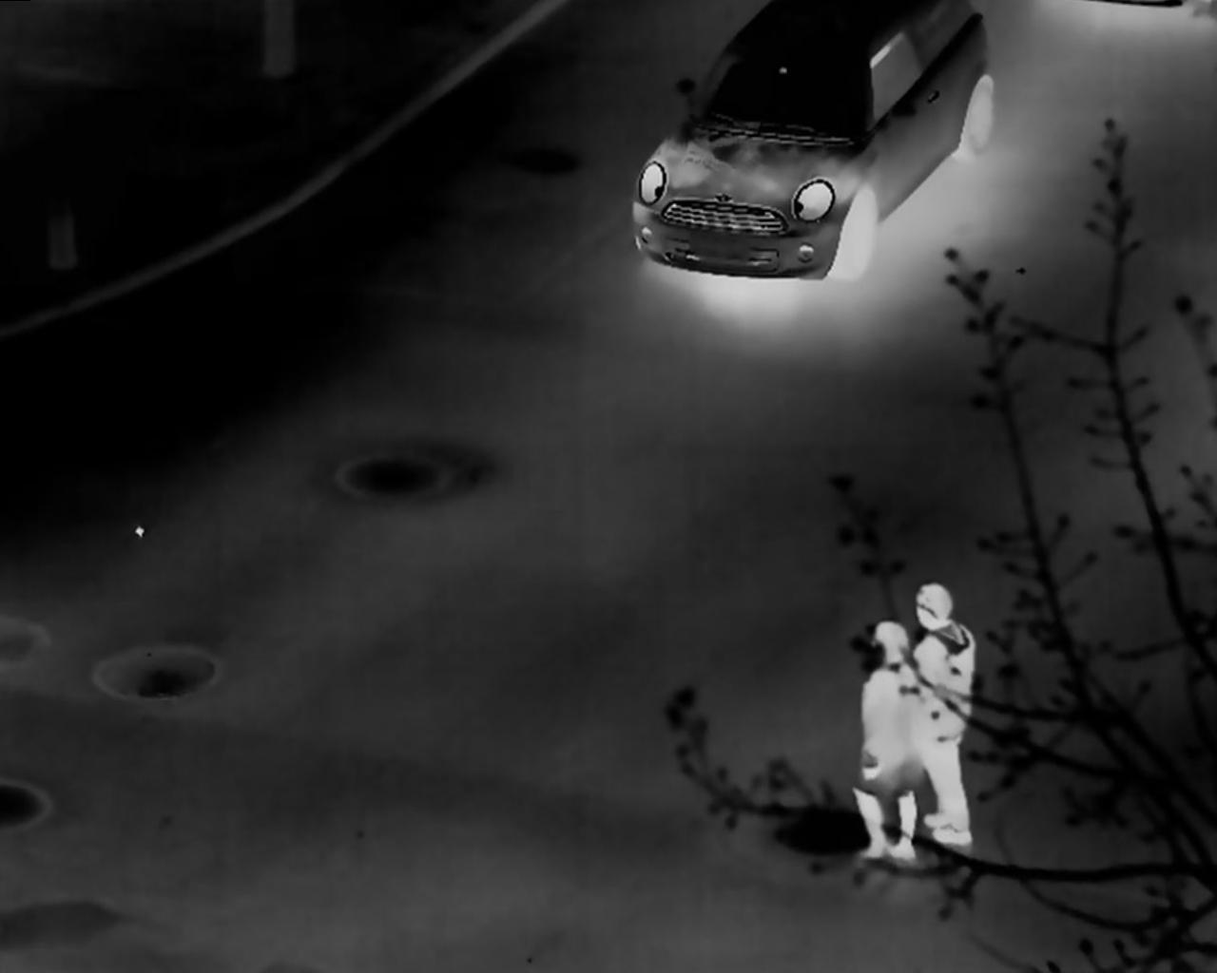person: (902, 582, 978, 845), (858, 619, 923, 858)
